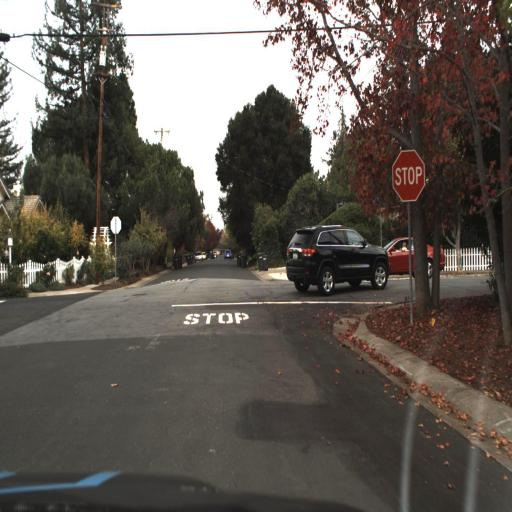car: (284, 224, 391, 296), (370, 232, 448, 283)
